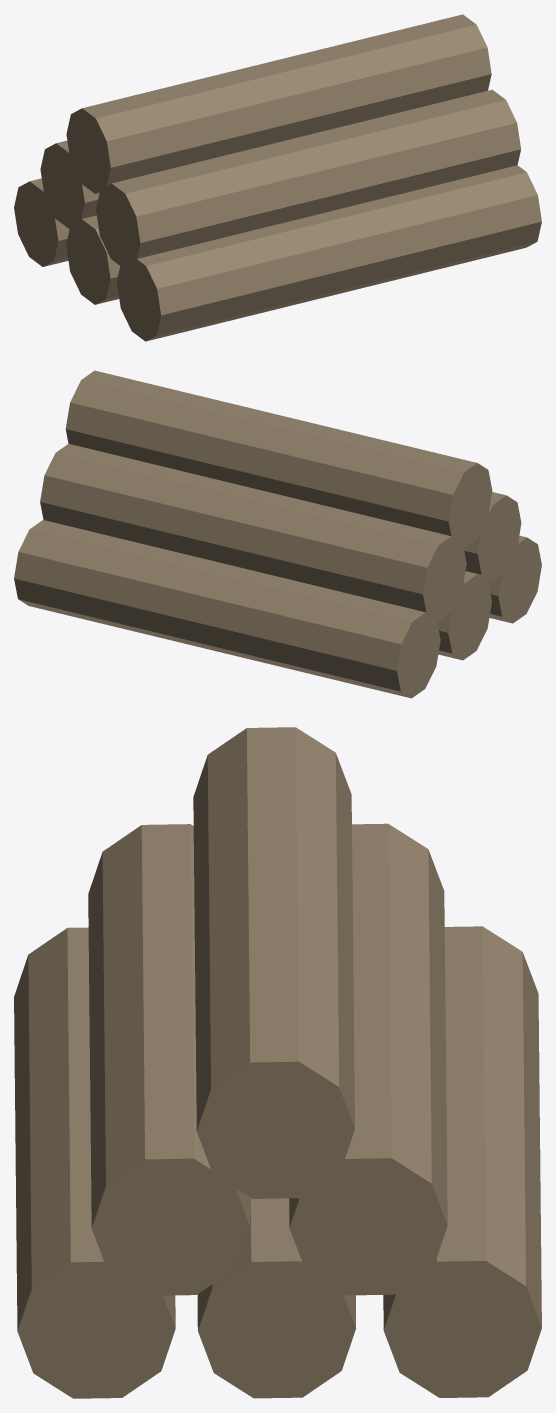
The model's file is wood.fbx.
The picture shows the model from 3 angles, top to bottom: view 1: azimuth 30°, elevation 25°; view 2: azimuth 150°, elevation 25°; view 3: azimuth 270°, elevation 25°; orthographic projection. The views are drawn at different scales.
Parts seen in each view (by area): view 1: Cylinder.036, Cylinder.045, Cylinder.044, Cylinder.041, Cylinder.042, Cylinder.043; view 2: Cylinder.042, Cylinder.043, Cylinder.045, Cylinder.044, Cylinder.041, Cylinder.036; view 3: Cylinder.045, Cylinder.044, Cylinder.042, Cylinder.043, Cylinder.036, Cylinder.041.
Part boxes in pixels (x1,y1,x2,y2): Cylinder.036: (117,165,541,341); Cylinder.045: (66,14,491,193); Cylinder.044: (96,89,520,269); Cylinder.041: (66,215,120,304); Cylinder.042: (14,178,69,266); Cylinder.043: (40,140,99,228); Cylinder.042: (14,520,440,698); Cylinder.043: (40,443,466,621); Cylinder.045: (65,370,492,548); Cylinder.044: (464,492,521,581); Cylinder.041: (437,571,491,660); Cylinder.036: (487,535,541,623); Cylinder.045: (193,727,354,1198); Cylinder.044: (88,824,249,1295); Cylinder.042: (383,926,541,1397); Cylinder.043: (289,823,447,1295); Cylinder.036: (14,927,175,1398); Cylinder.041: (197,1197,355,1398).
Size of the model in its own units: 610 by 286 by 406.
